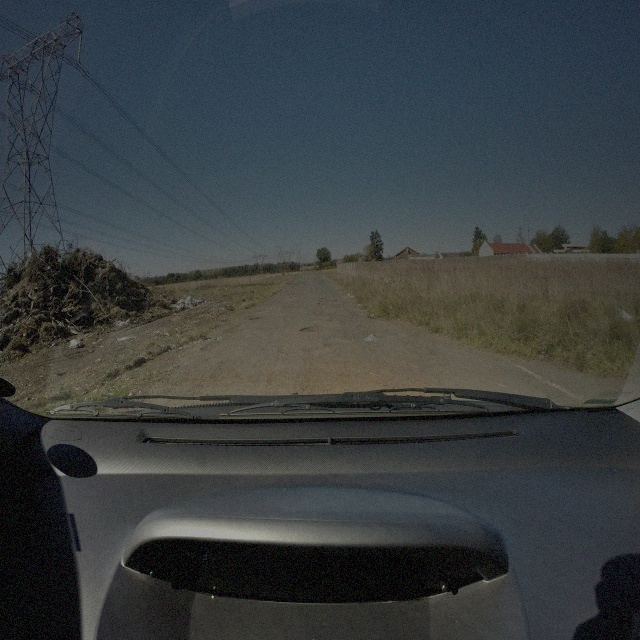pothole: (299, 325, 325, 335), (250, 317, 262, 320)
